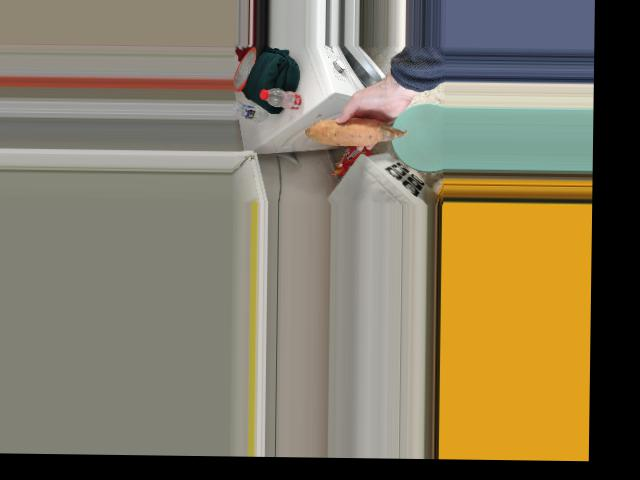sweet_potato: (318, 119, 393, 142)
